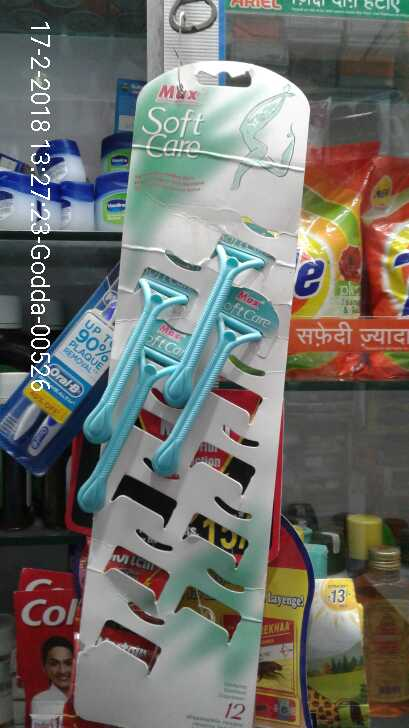venus: (72, 226, 269, 522)
